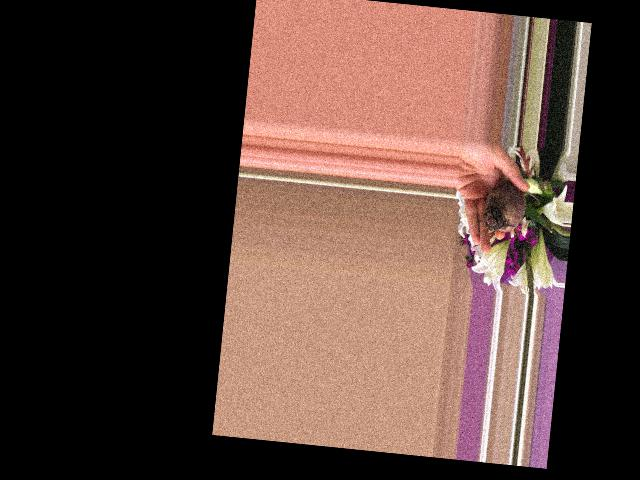beet: (482, 178, 540, 235)
